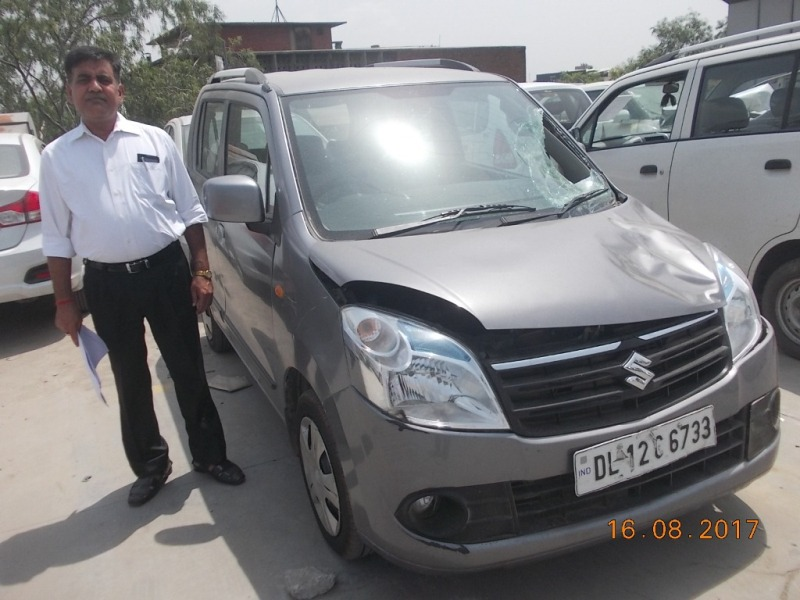Scratch_or_spot: (635, 55, 705, 106)
Tear: (261, 366, 350, 405)
